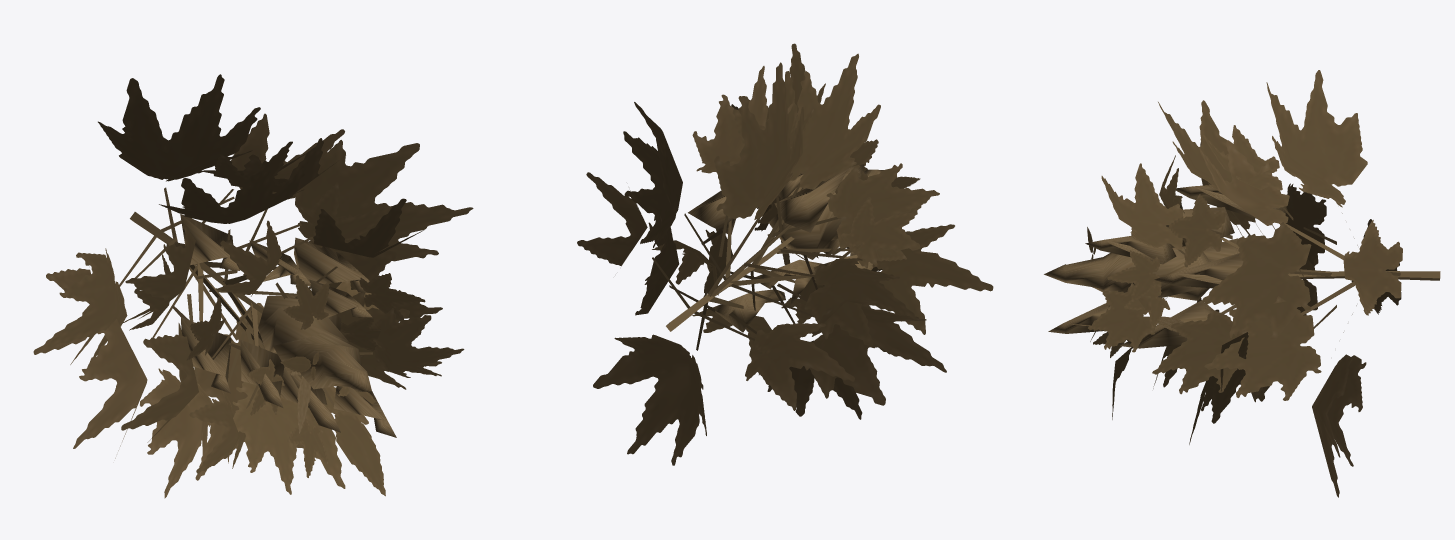
The model's file is p_kush_ripe_c3_cards.obj.
3 views of the same model, side by side, from view 1: azimuth 30°, elevation 25°; view 2: azimuth 150°, elevation 25°; view 3: azimuth 270°, elevation 25° (orthographic). The views are drawn at different scales.
Bounding box in the file's own units: 1.48 × 1.69 × 1.34.
1 material, 1 textured.
